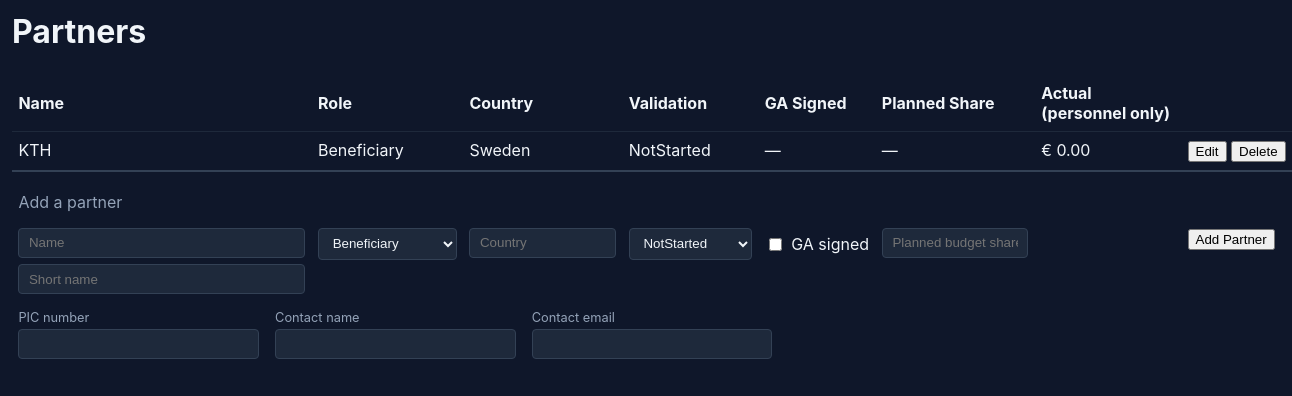
Test: Partners screen › Cancel leaves edit mode without saving
Click the button "Edit": (1207, 152) left=1188, top=141, right=1227, bottom=162
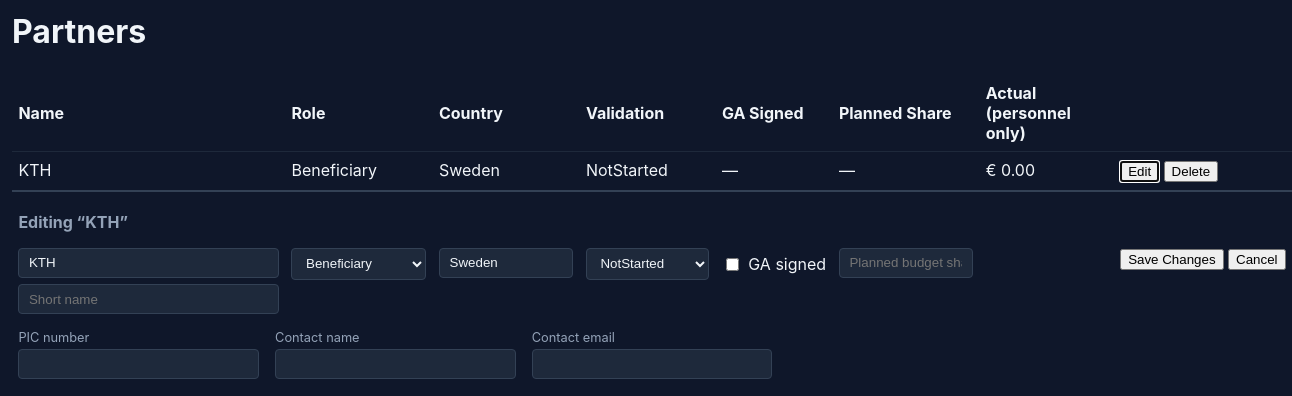
Click the button "Cancel": (1257, 260) left=1228, top=249, right=1286, bottom=270
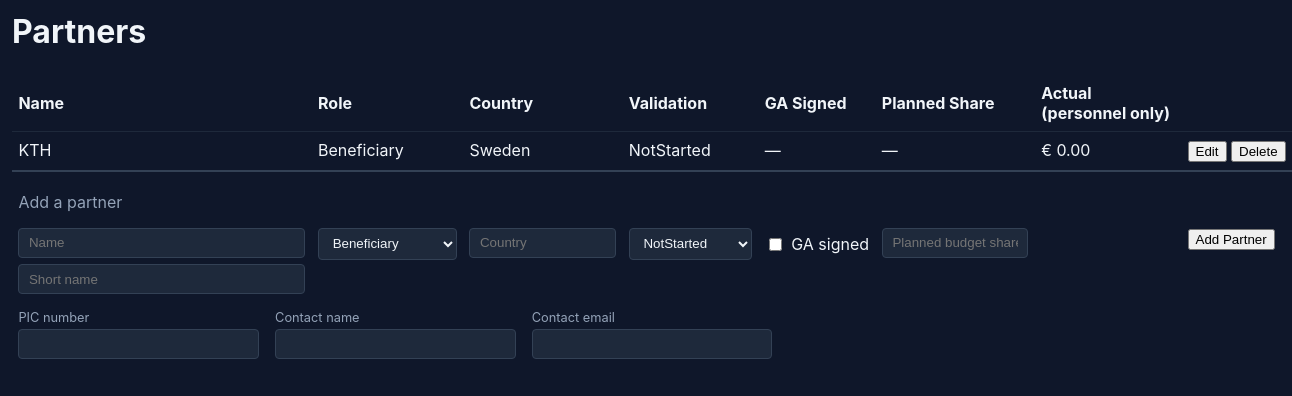
Check: the button "Add Partner" is shown, box left=1188, top=229, right=1275, bottom=250
